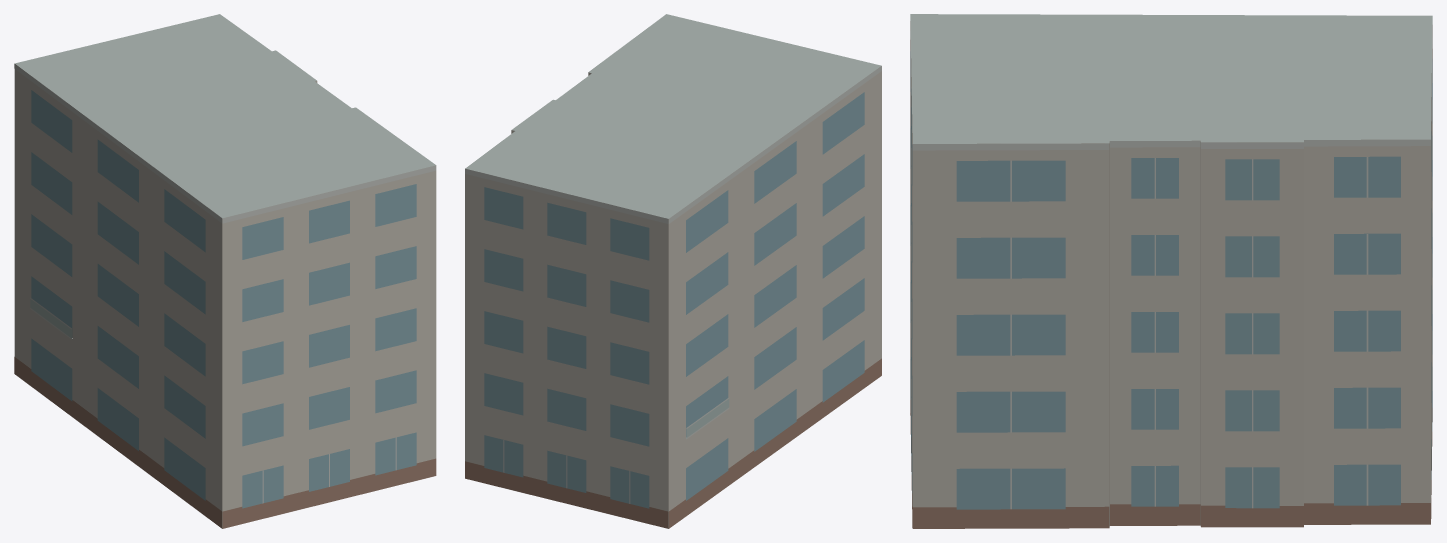
File: survey-upis-32940913.glb
The picture shows the model from 3 angles, left to right: view 1: azimuth 30°, elevation 25°; view 2: azimuth 150°, elevation 25°; view 3: azimuth 270°, elevation 25°; orthographic projection. The views are drawn at different scales.
Visible parts, largest first — view 1: survey-upis-32940913.tmp; view 2: survey-upis-32940913.tmp; view 3: survey-upis-32940913.tmp.
Part boxes in pixels (bbox=[...]): survey-upis-32940913.tmp: bbox=[14, 14, 436, 528]; survey-upis-32940913.tmp: bbox=[465, 14, 881, 528]; survey-upis-32940913.tmp: bbox=[910, 14, 1432, 528].
Bounding box in the file's own units: 10.37 × 14.3 × 17.6.
